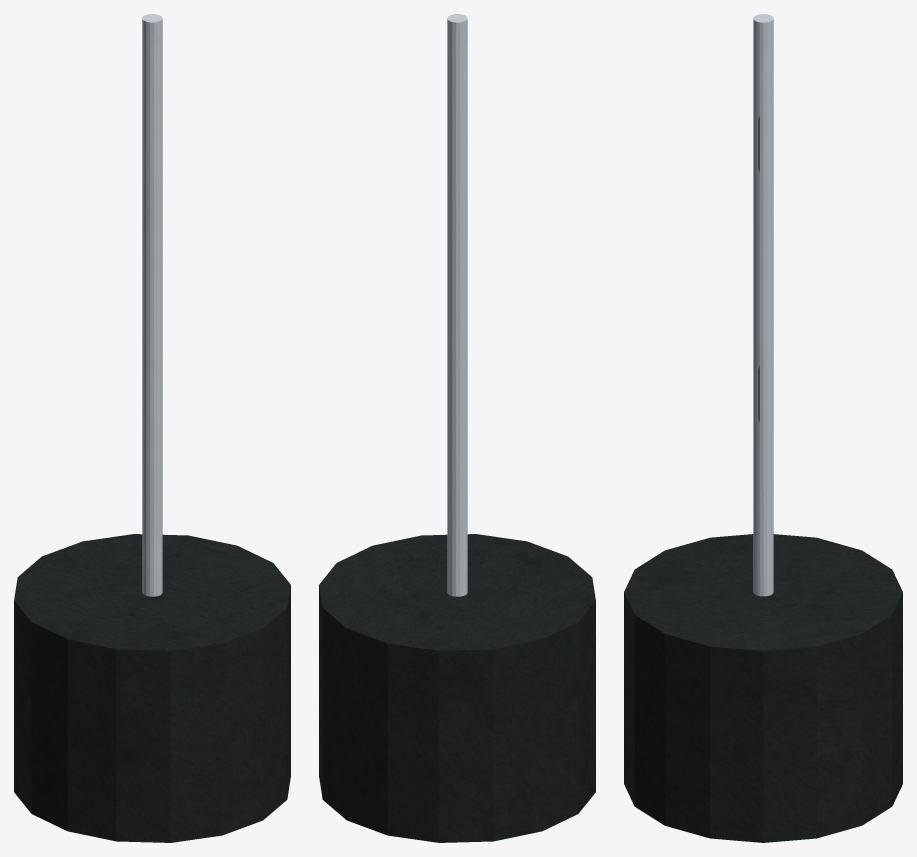
Rendered from Turret.glb.
3 views of the same model, side by side, from view 1: azimuth 30°, elevation 25°; view 2: azimuth 150°, elevation 25°; view 3: azimuth 270°, elevation 25° (orthographic).
Parts seen in each view (by area): view 1: Base, Puerta; view 2: Base, Puerta; view 3: Base, Puerta.
Part boxes in pixels (x1,y1,x2,y2): Base: (14, 534, 290, 842); Puerta: (142, 14, 162, 596); Base: (319, 534, 595, 842); Puerta: (447, 14, 467, 596); Base: (624, 534, 902, 842); Puerta: (753, 14, 773, 596).
Size of the model in its own units: 1.28 by 3.99 by 1.28.
Materials: 3 (3 with a texture image).
